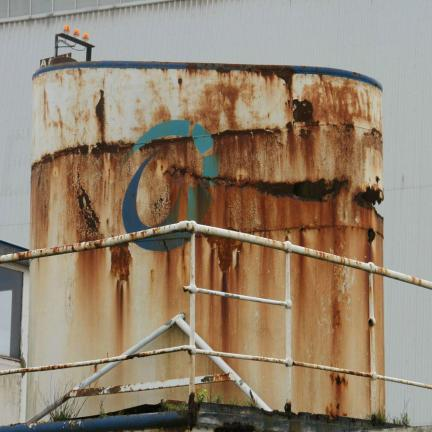karat: (220, 188, 324, 223), (302, 79, 372, 123), (195, 81, 239, 130), (73, 173, 103, 241), (69, 380, 169, 397), (31, 166, 51, 247), (32, 145, 89, 168), (208, 238, 242, 272), (110, 244, 131, 281), (330, 373, 348, 415), (354, 185, 383, 208), (96, 90, 105, 141), (293, 100, 313, 122), (152, 105, 171, 124), (330, 373, 348, 386), (44, 88, 48, 129), (367, 228, 375, 242), (300, 129, 311, 138), (286, 122, 292, 133), (178, 78, 182, 85)
